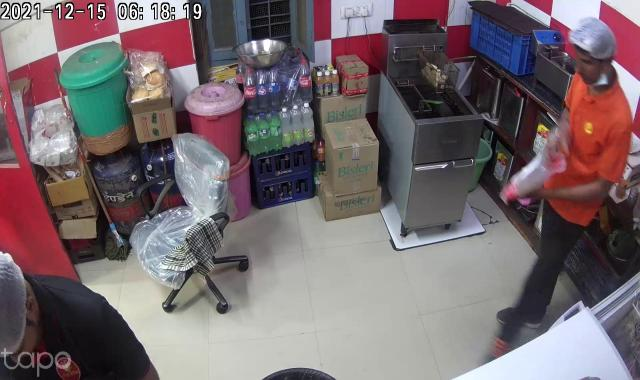hairnet: (566, 14, 621, 69)
